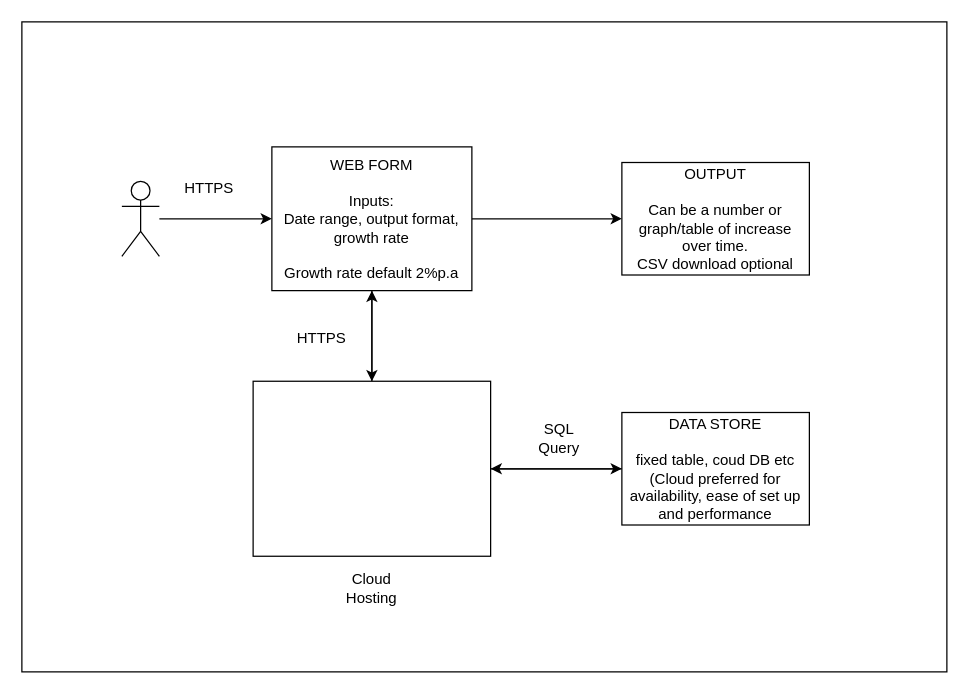
Image size: 969x694. Some labels were removed from this diagram. Each missing label, with the box of its shape:
Actor: (121, 180, 159, 256)
WEB SERVER Handles Calculations etc: (252, 380, 491, 556)
